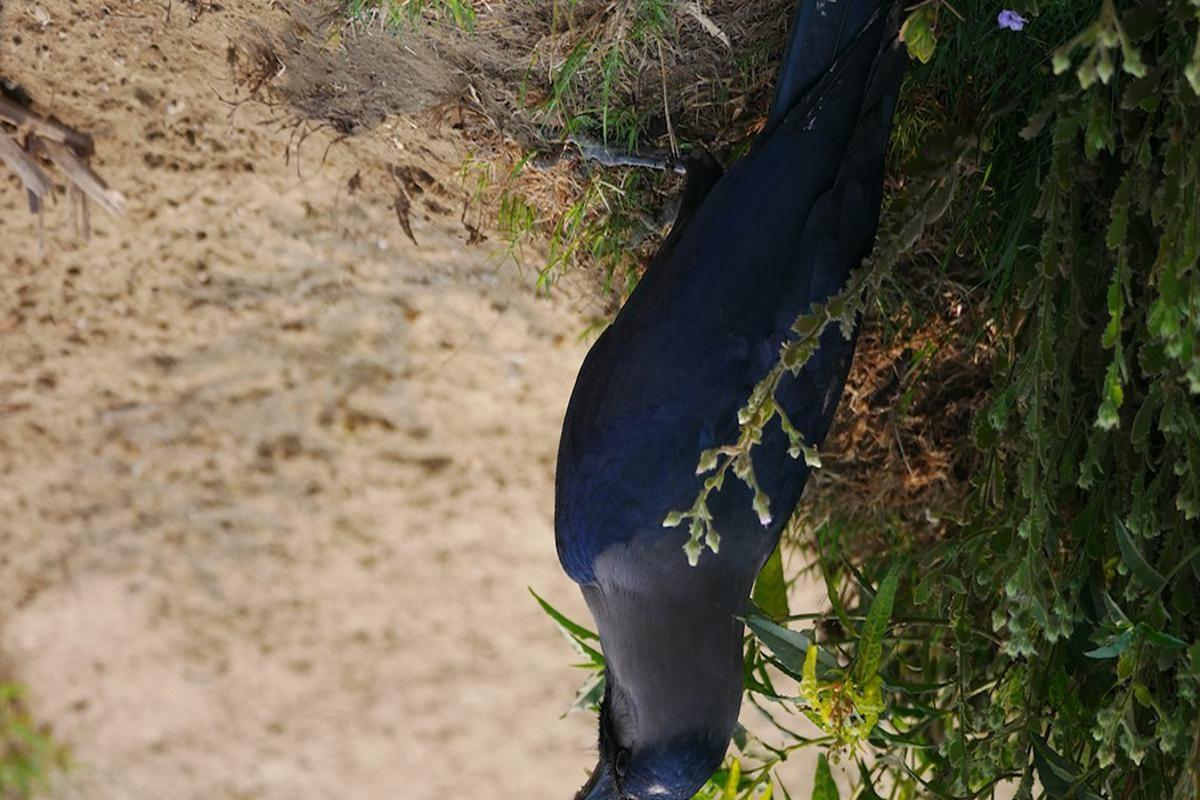crow: (543, 3, 918, 799)
